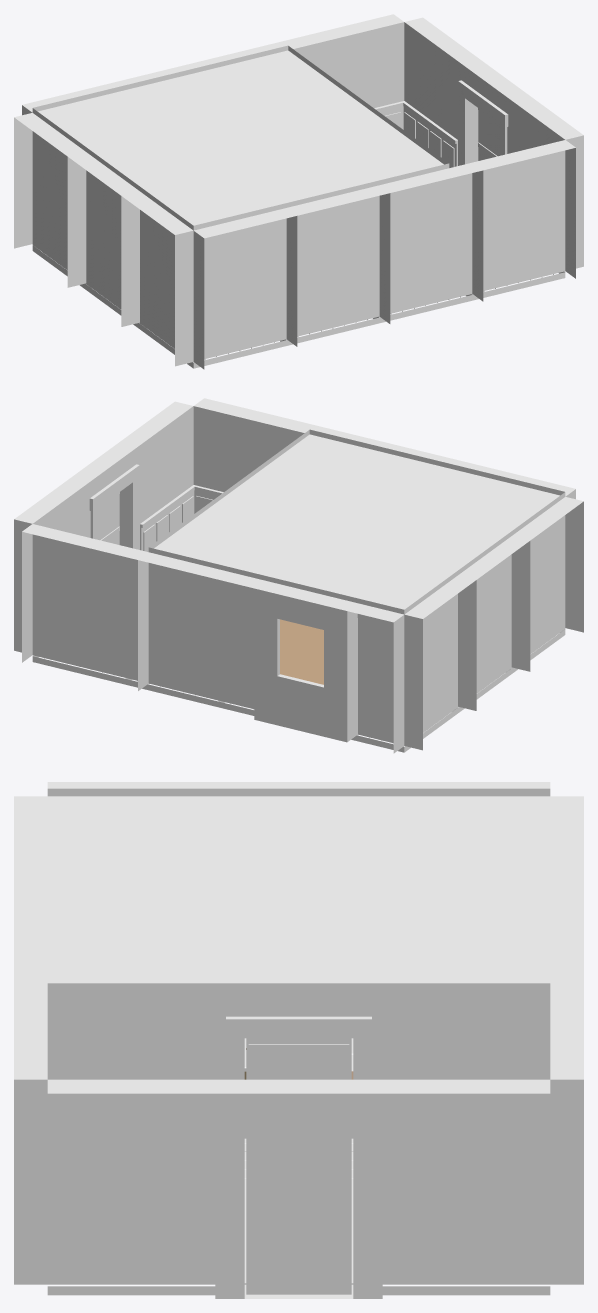
File: int_morada_casa_pequena.glb
3 views of the same model, one above another, from view 1: azimuth 30°, elevation 25°; view 2: azimuth 150°, elevation 25°; view 3: azimuth 270°, elevation 25° (orthographic). The views are drawn at different scales.
Visible parts, largest first — view 1: INT_Morada_Casa_Pequena_WALL_Near_A, INT_Morada_Casa_Pequena_CEILING, INT_Morada_Casa_Pequena_Shell, INT_Morada_Casa_Pequena_WALL_Near_B, INT_Morada_Casa_Pequena_WALL_Near_Casa, KITI_INT_Fireplace; view 2: INT_Morada_Casa_Pequena_Shell, INT_Morada_Casa_Pequena_CEILING, INT_Morada_Casa_Pequena_WALL_Near_B, INT_Morada_Casa_Pequena_WALL_Near_A, INT_Morada_Casa_Pequena_WALL_Near_Casa, KITI_INT_Fireplace; view 3: INT_Morada_Casa_Pequena_CEILING, INT_Morada_Casa_Pequena_WALL_Near_B, INT_Morada_Casa_Pequena_WALL_Near_Casa, INT_Morada_Casa_Pequena_Shell, INT_Morada_Casa_Pequena_WALL_Near_A.
Boxes of the visible parts, x1,y1,x2,y2 form: INT_Morada_Casa_Pequena_WALL_Near_A: (193,140,575,369); INT_Morada_Casa_Pequena_CEILING: (32,45,449,242); INT_Morada_Casa_Pequena_Shell: (14,14,565,368); INT_Morada_Casa_Pequena_WALL_Near_B: (402,17,583,268); INT_Morada_Casa_Pequena_WALL_Near_Casa: (280,50,446,303); KITI_INT_Fireplace: (36,113,99,269); INT_Morada_Casa_Pequena_Shell: (22,497,583,753); INT_Morada_Casa_Pequena_CEILING: (148,429,565,626); INT_Morada_Casa_Pequena_WALL_Near_B: (14,401,195,652); INT_Morada_Casa_Pequena_WALL_Near_A: (192,398,575,513); INT_Morada_Casa_Pequena_WALL_Near_Casa: (148,438,326,684); KITI_INT_Fireplace: (394,573,456,731); INT_Morada_Casa_Pequena_CEILING: (47,788,550,1013); INT_Morada_Casa_Pequena_WALL_Near_B: (47,1079,550,1298); INT_Morada_Casa_Pequena_WALL_Near_Casa: (47,981,550,1194); INT_Morada_Casa_Pequena_Shell: (47,782,583,1295); INT_Morada_Casa_Pequena_WALL_Near_A: (14,796,52,1284).
Size of what is drawn, in the model's own units: 8.8 by 2.94 by 6.8.
27 materials, 22 textured.
